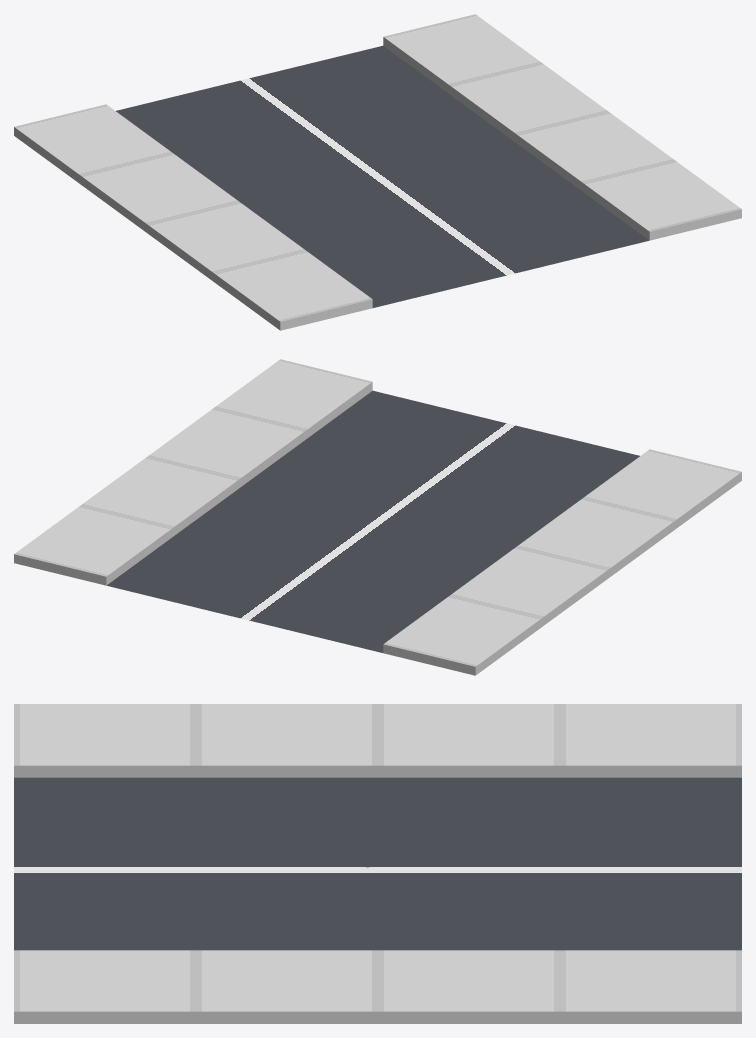
Rendered from road1.fbx.
3 views of the same model, one above another, from view 1: azimuth 30°, elevation 25°; view 2: azimuth 150°, elevation 25°; view 3: azimuth 270°, elevation 25° (orthographic). The views are drawn at different scales.
Parts seen in each view (by area): view 1: road1; view 2: road1; view 3: road1.
Boxes of the visible parts, x1=… form: road1: x1=14, y1=14, x2=741, y2=330; road1: x1=14, y1=359, x2=741, y2=675; road1: x1=14, y1=704, x2=741, y2=1023.
Size of the model in its own units: 1000 by 18.48 by 1000.
